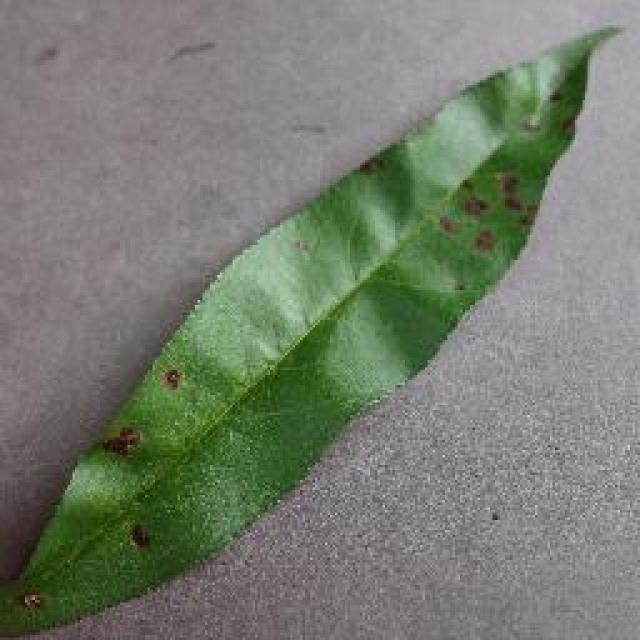Peach_Bacterial_Spot: (318, 162, 562, 295)
